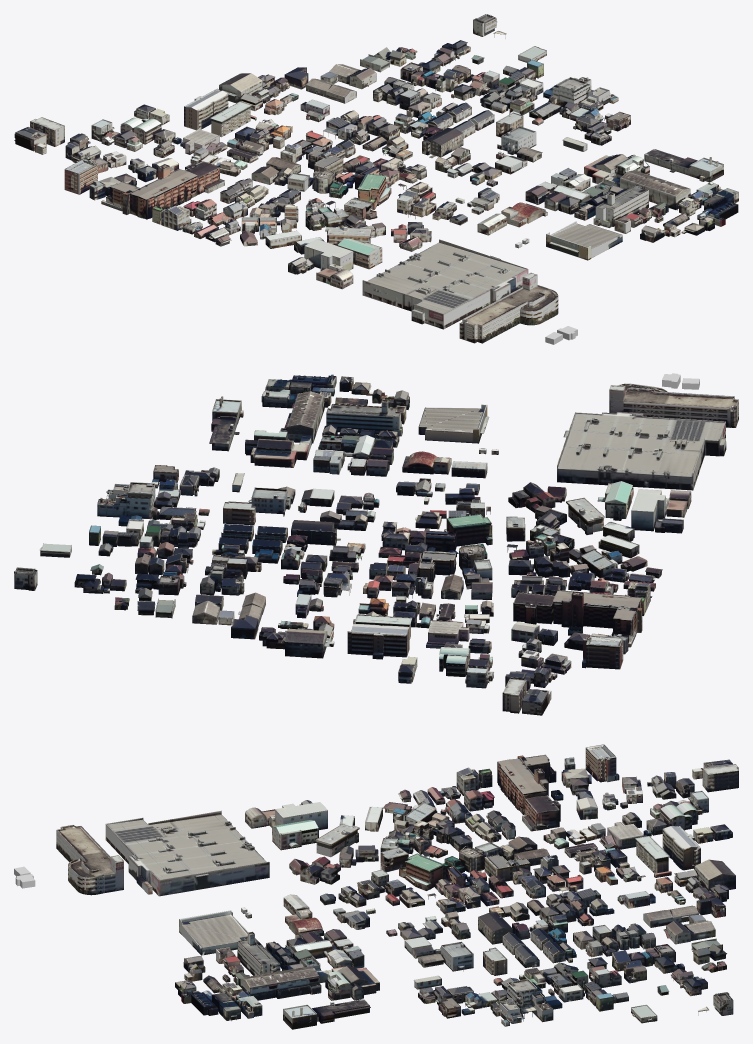
The model's file is station-2-2-packed.glb.
The picture shows the model from 3 angles, top to bottom: view 1: azimuth 30°, elevation 25°; view 2: azimuth 150°, elevation 25°; view 3: azimuth 270°, elevation 25°; orthographic projection. The views are drawn at different scales.
Bounding box in the file's own units: 388 × 22.14 × 453.
Materials: 17 (16 with a texture image).
